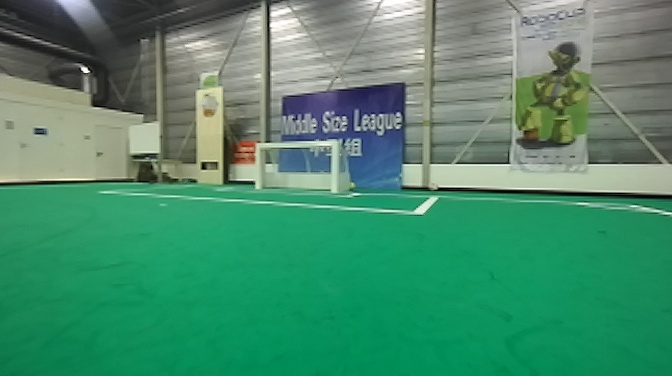ball: (342, 176, 361, 193), (428, 179, 441, 192)
goalpost: (328, 137, 350, 200), (254, 140, 269, 195)
